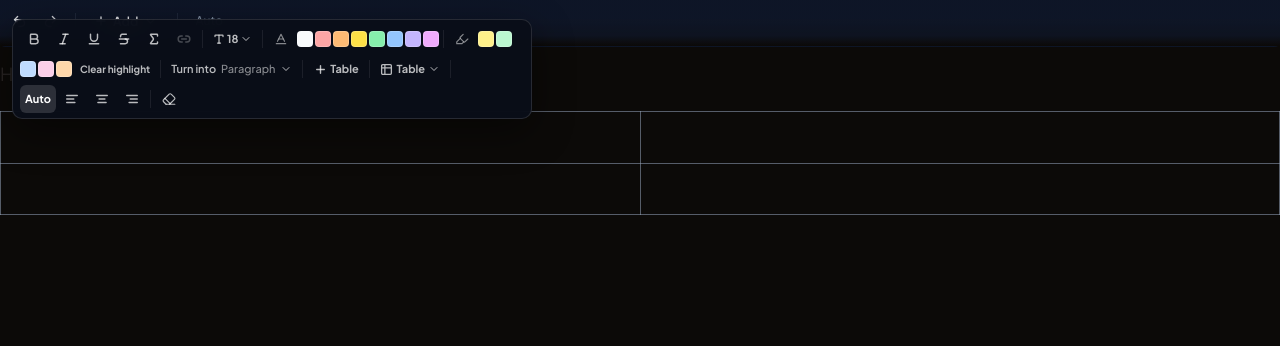
Test: M6.4C context UI › Delete row / column / table actions are labeled and separated
Press the mouse on the 2nd button "Table" at (410, 69), box [374,55,446,83]
Click the 2nd button "Table" at (410, 69), box [374,55,446,83]
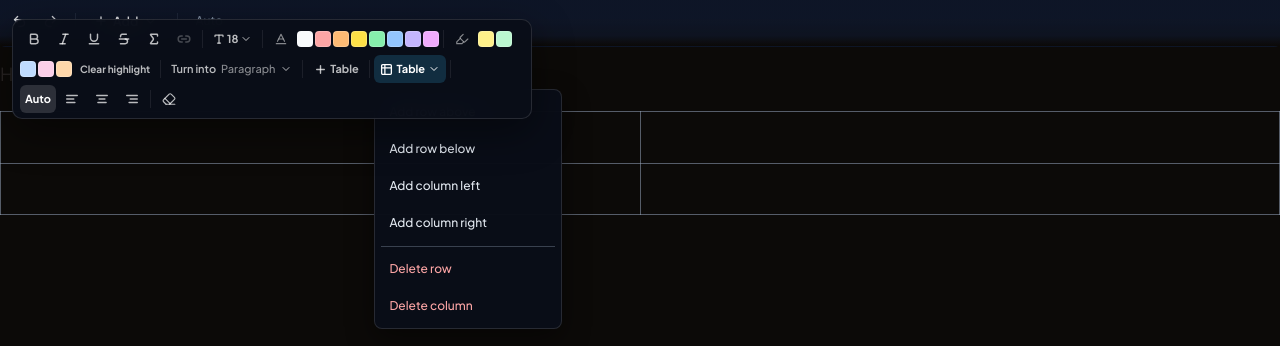
Expected: the menu is shown, [374,89,562,329]
Expected: the menu item "Delete row" is shown, [380,251,558,287]
Expected: the menu item "Delete column" is shown, [380,288,558,324]
